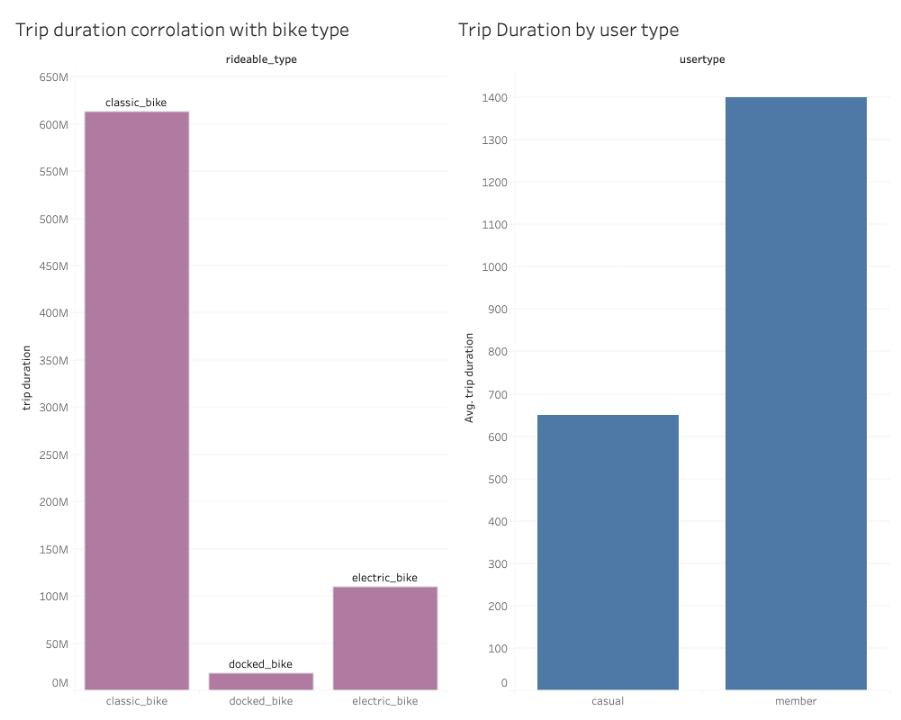

The page's visual inventory and layout, read from the dashboard file:
{"tool":"tableau","page":{"name":"Trip Duration anlyze","canvas":[1000,800],"ordinal":1},"visuals":[{"type":"worksheet","title":"Trip duration vs bike type","mark":"Bar","rows":["Calculation_1632625244893233165"],"cols":["rideable_type"],"box":[8,8,492,784]},{"type":"worksheet","title":"trip duration by user type","mark":"Automatic","rows":["Calculation_1632625244893233165"],"cols":["member_casual"],"box":[500,8,492,784]}]}

Visuals, with their boxes in screenshot pixels (x1, y1, x2, y2), scaled from the page's 1000x800 canvas onto the 901x720 screenshot:
"Trip duration vs bike type" worksheet (Bar marks): l=7, t=7, r=450, b=713
"trip duration by user type" worksheet: l=450, t=7, r=894, b=713
